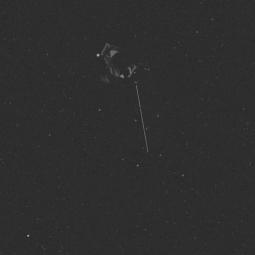earth_observation_sat_1: (87, 39, 158, 153)
